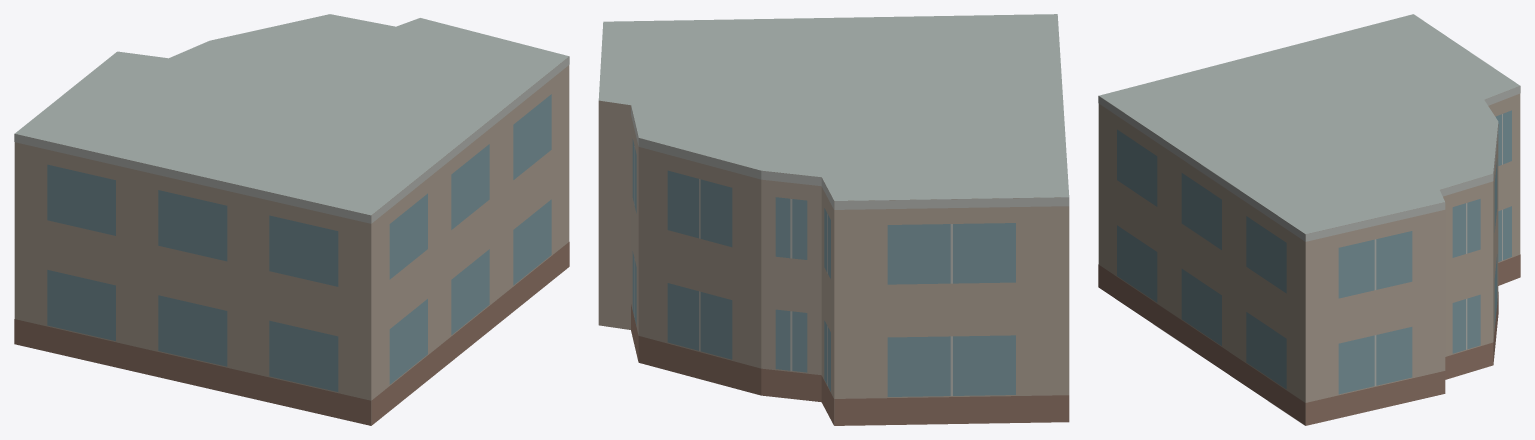
The model's file is survey-upis-33039090.glb.
3 views of the same model, side by side, from view 1: azimuth 30°, elevation 25°; view 2: azimuth 150°, elevation 25°; view 3: azimuth 270°, elevation 25° (orthographic). The views are drawn at different scales.
Visible parts, largest first — view 1: survey-upis-33039090.tmp; view 2: survey-upis-33039090.tmp; view 3: survey-upis-33039090.tmp.
Boxes of the visible parts, x1,y1,x2,y2 form: survey-upis-33039090.tmp: [14, 14, 569, 425]; survey-upis-33039090.tmp: [598, 14, 1069, 425]; survey-upis-33039090.tmp: [1098, 14, 1520, 425].
Size of the model in its own units: 15.04 by 6.1 by 12.18.
